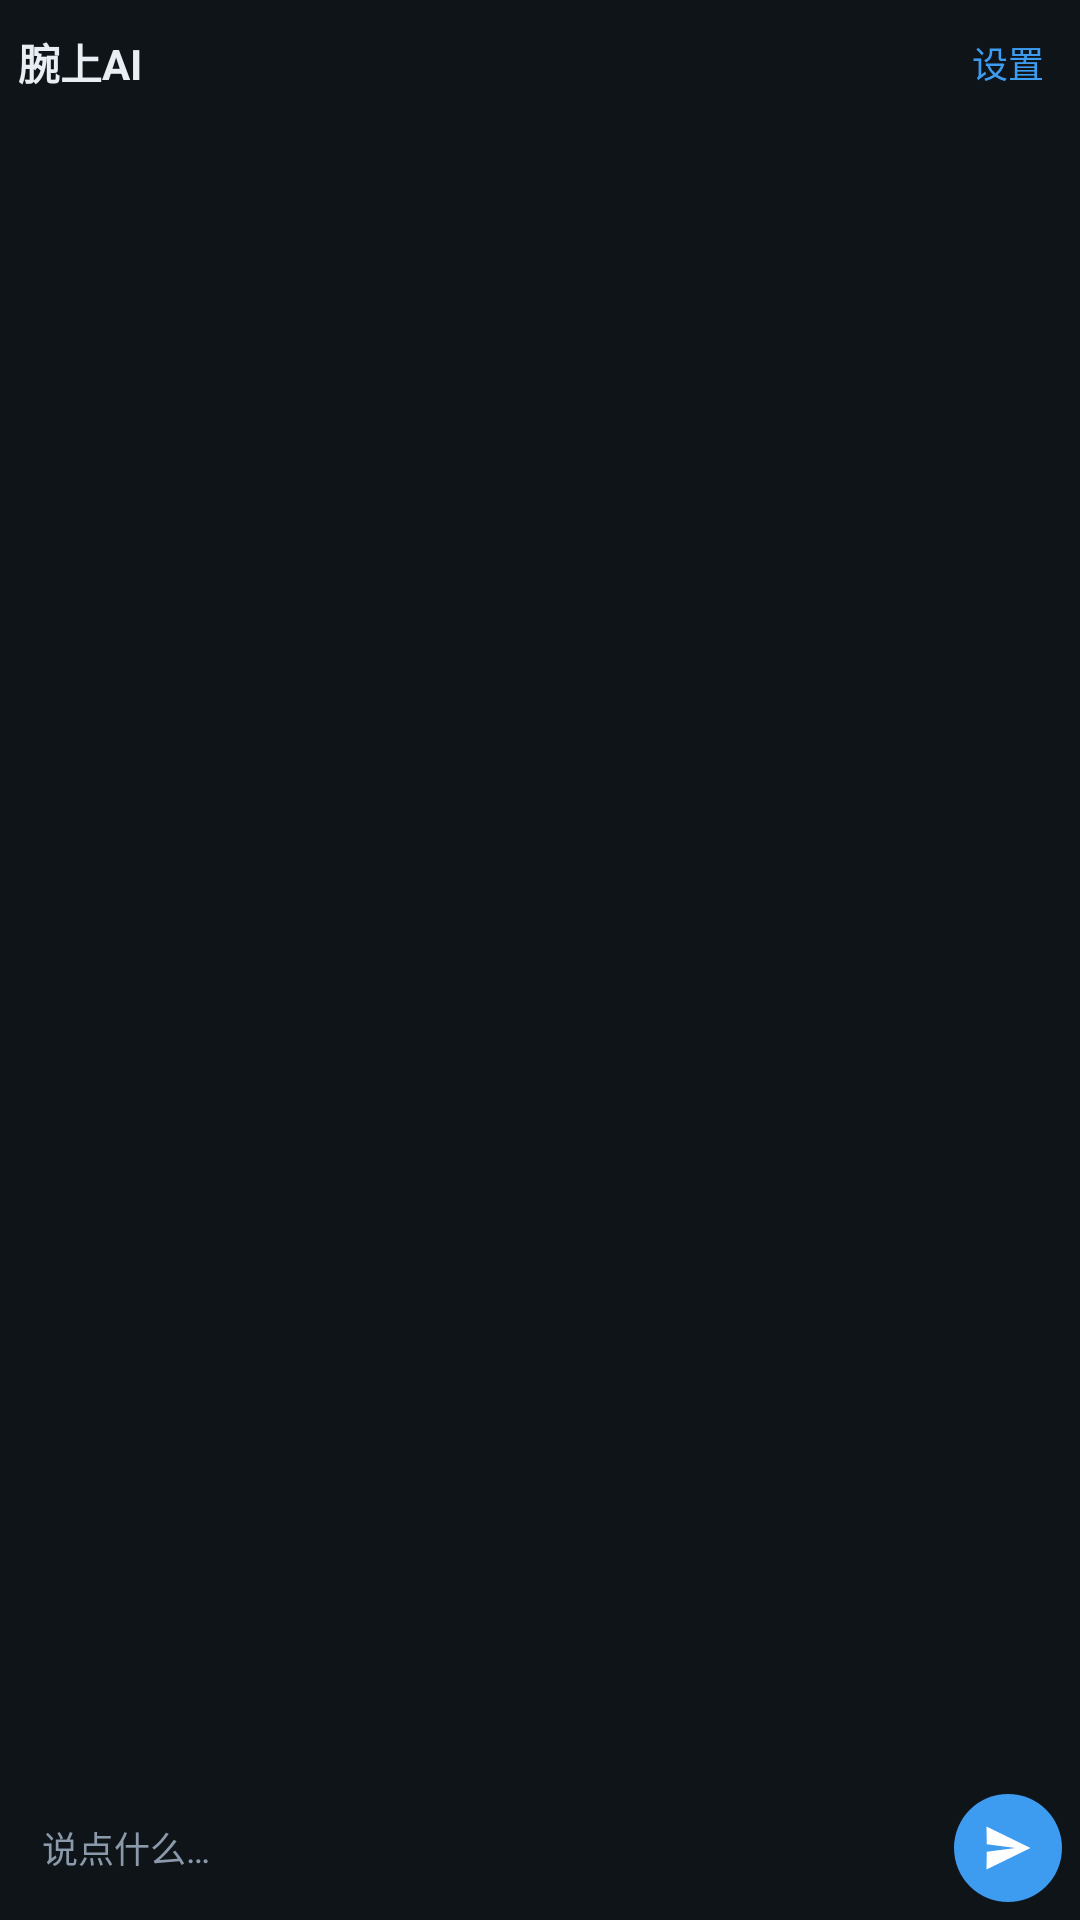

Screen size 1080 x 1920. Icon name, then its box in pixels as rect(x1, y1, x2, y2):
发送: rect(954, 1794, 1062, 1902)
